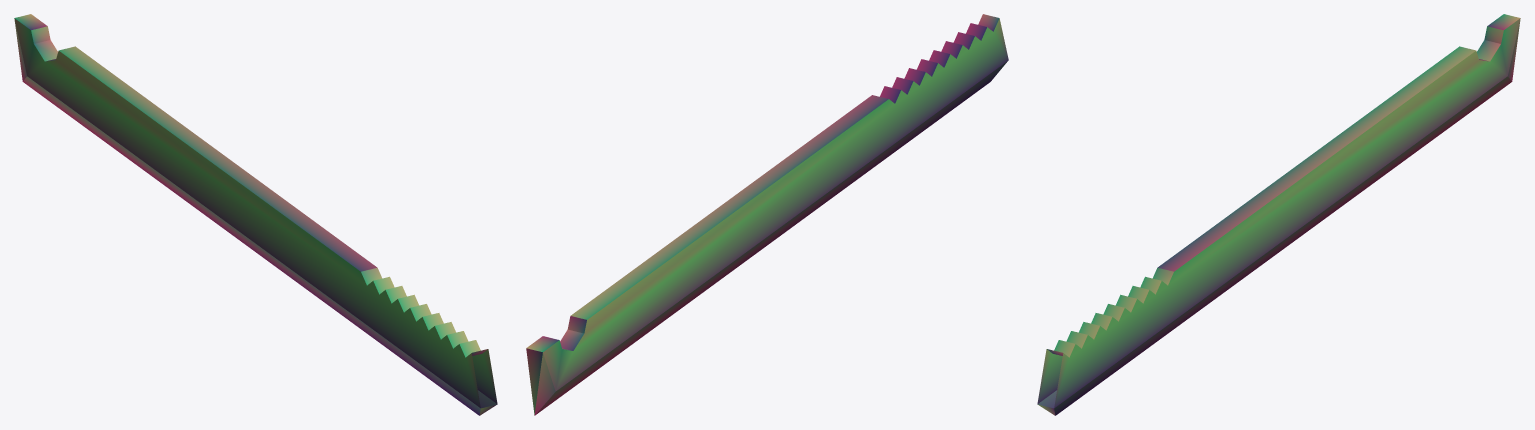
The model's file is Eff_Anbi_Weapon_001_02.fbx.
3 views of the same model, side by side, from view 1: azimuth 30°, elevation 25°; view 2: azimuth 150°, elevation 25°; view 3: azimuth 330°, elevation 25° (orthographic).
Parts seen in each view (by area): view 1: Eff_Anbi_Weapon_001_02; view 2: Eff_Anbi_Weapon_001_02; view 3: Eff_Anbi_Weapon_001_02.
Boxes of the visible parts, x1,y1,x2,y2 form: Eff_Anbi_Weapon_001_02: (14, 14, 497, 415); Eff_Anbi_Weapon_001_02: (526, 14, 1008, 415); Eff_Anbi_Weapon_001_02: (1037, 14, 1520, 415).
Size of the model in its own units: 0.0377 by 0.1417 by 1.82.
